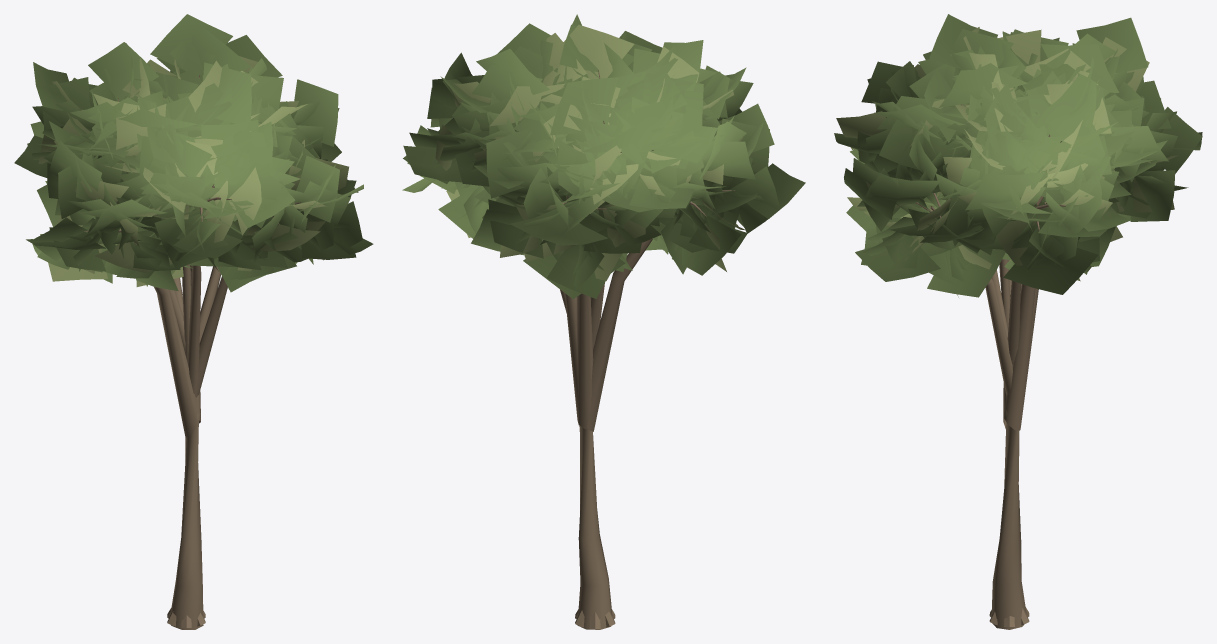
Rendered from roadside-oak.glb.
3 renders of one model, left to right at view 1: azimuth 30°, elevation 25°; view 2: azimuth 150°, elevation 25°; view 3: azimuth 270°, elevation 25°, orthographic. The views are drawn at different scales.
Parts seen in each view (by area): view 1: foliage, wood, foliage-light; view 2: foliage, wood, foliage-light; view 3: foliage, foliage-light, wood.
Part boxes in pixels (bbox=[...]): foliage: bbox=[14, 14, 373, 292]; wood: bbox=[82, 74, 300, 629]; foliage-light: bbox=[38, 56, 348, 286]; foliage: bbox=[402, 14, 805, 299]; wood: bbox=[560, 70, 734, 629]; foliage-light: bbox=[435, 25, 745, 280]; foliage: bbox=[834, 14, 1202, 297]; foliage-light: bbox=[836, 27, 1178, 281]; wood: bbox=[915, 104, 1065, 629].
Bounding box in the file's own units: 7.02 × 11.42 × 6.5.
